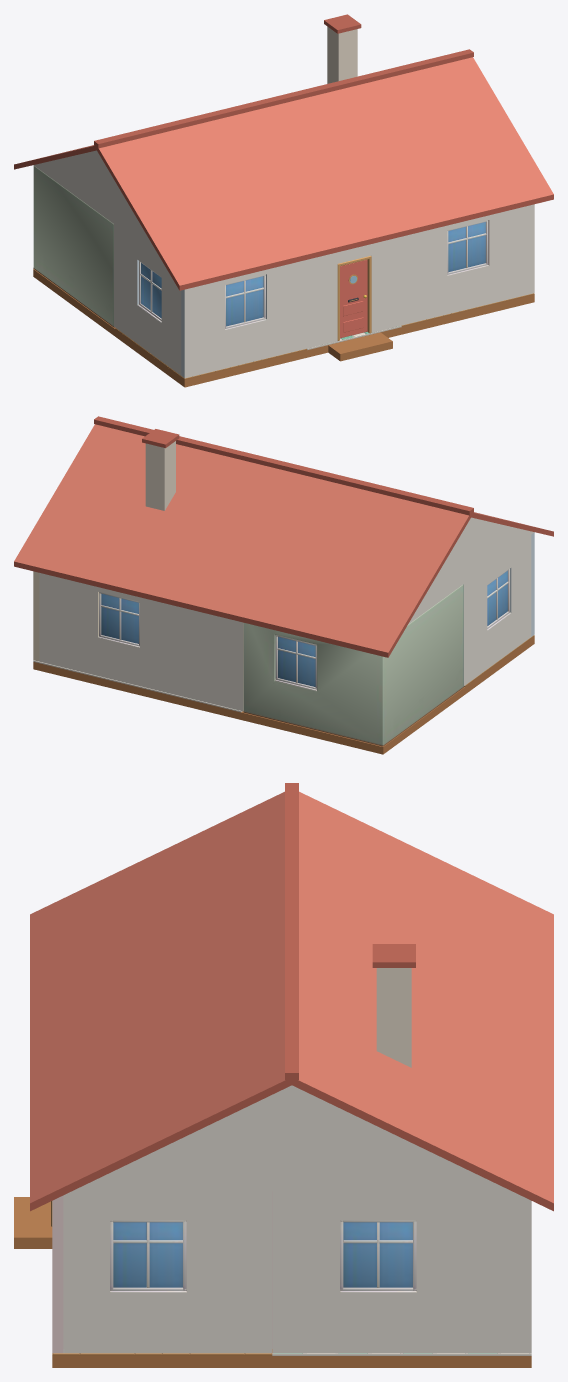
Rendered from house.glb.
3 views of the same model, one above another, from view 1: azimuth 30°, elevation 25°; view 2: azimuth 150°, elevation 25°; view 3: azimuth 270°, elevation 25° (orthographic). The views are drawn at different scales.
Visible parts, largest first — view 1: roof_front, lr_wallL, front_bedroom_full_1.85, front_bedroom_full_4.35, gable_1, front_study_full_-4.42, base_slab, front_study_full_-2.08, roof_ridge, front_entry_full_-1.07, front_entry_full_0.77, left_study_full_-0.57 (+14 smaller); view 2: roof_back, lr_wallB, back_kitchen_full_0.47, lr_wallL, back_kitchen_full_3.99, base_slab, gable_1, roof_ridge, left_study_full_-0.57, left_study_full_-2.84, back_living_window, chimney (+8 smaller); view 3: roof_front, roof_back, gable_-1, right_kitchen_full_3.10, right_bedroom_full_-0.73, right_kitchen_full_0.47, right_bedroom_full_-2.96, base_slab, right_bedroom_window_-2.00, right_kitchen_window_1.60, right_bedroom_below_-2.00, right_kitchen_below_1.60 (+7 smaller).
Part boxes in pixels (x1,y1,x2,y2): roof_front: (96, 57, 553, 290); lr_wallL: (33, 166, 113, 326); front_bedroom_full_1.85: (401, 225, 447, 325); front_bedroom_full_4.35: (488, 204, 534, 303); gable_1: (33, 150, 159, 257); front_study_full_-4.42: (181, 280, 224, 378); base_slab: (33, 269, 534, 387); front_study_full_-2.08: (266, 260, 307, 358); roof_ridge: (94, 49, 473, 148); front_entry_full_-1.07: (307, 252, 337, 348); front_entry_full_0.77: (371, 237, 401, 332); left_study_full_-0.57: (114, 224, 138, 343); roof_back: (14, 424, 471, 657); lr_wallB: (243, 623, 382, 745); back_kitchen_full_0.47: (140, 597, 243, 711); lr_wallL: (382, 584, 463, 745); back_kitchen_full_3.99: (39, 573, 98, 675); base_slab: (33, 636, 534, 754); gable_1: (408, 517, 533, 624); roof_ridge: (94, 416, 473, 515); left_study_full_-0.57: (463, 567, 487, 685); left_study_full_-2.84: (510, 535, 531, 651); back_living_window: (274, 634, 316, 690); chimney: (145, 441, 175, 510); roof_front: (30, 791, 291, 1211); roof_back: (292, 791, 553, 1211); gable_-1: (72, 1085, 511, 1191); right_kitchen_full_3.10: (416, 1191, 531, 1353); right_bedroom_full_-0.73: (186, 1191, 271, 1353); right_kitchen_full_0.47: (272, 1191, 339, 1353); right_bedroom_full_-2.96: (63, 1191, 109, 1353); base_slab: (52, 1356, 531, 1367); right_bedroom_window_-2.00: (110, 1220, 186, 1292); right_kitchen_window_1.60: (340, 1220, 416, 1292); right_bedroom_below_-2.00: (110, 1291, 186, 1353); right_kitchen_below_1.60: (340, 1291, 416, 1353).
Bounding box in the file's own units: 10.74 × 6.04 × 8.45.
35 materials, 2 textured.
